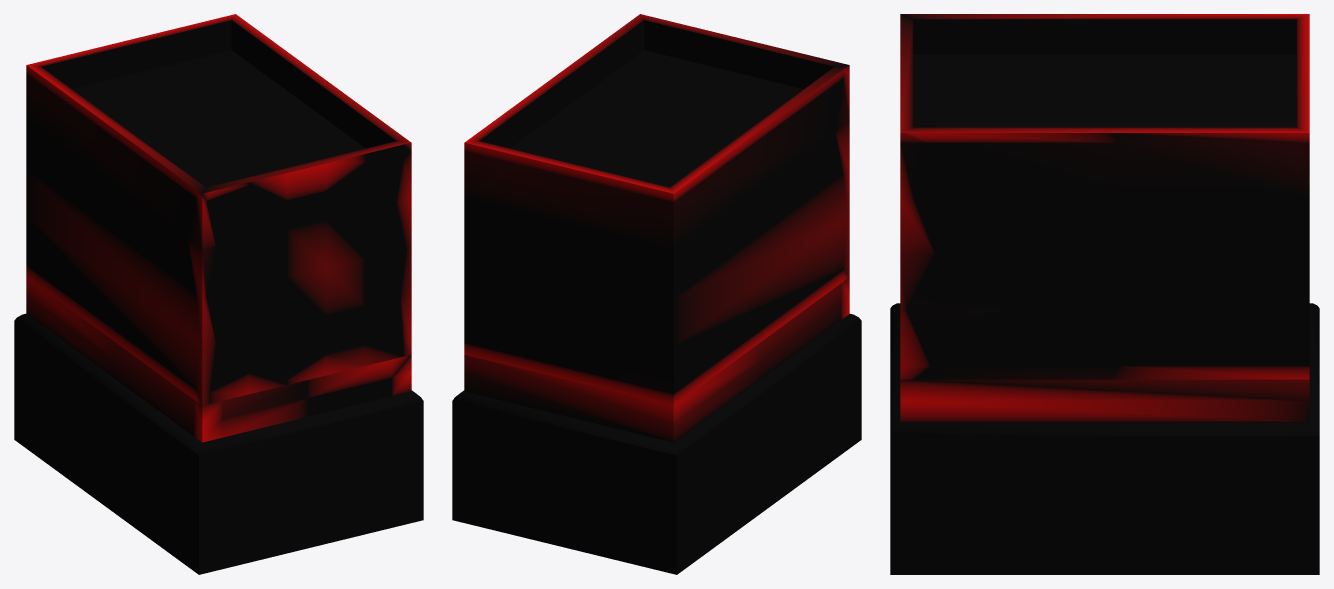
The model's file is House9.fbx.
3 renders of one model, left to right at view 1: azimuth 30°, elevation 25°; view 2: azimuth 150°, elevation 25°; view 3: azimuth 270°, elevation 25°, orthographic. The views are drawn at different scales.
Parts seen in each view (by area): view 1: House9; view 2: House9; view 3: House9.
Part boxes in pixels (<box>): House9: <box>14,14,423,574</box>; House9: <box>452,14,861,574</box>; House9: <box>890,14,1319,574</box>.
Size of the model in its own units: 590 by 945 by 840.
